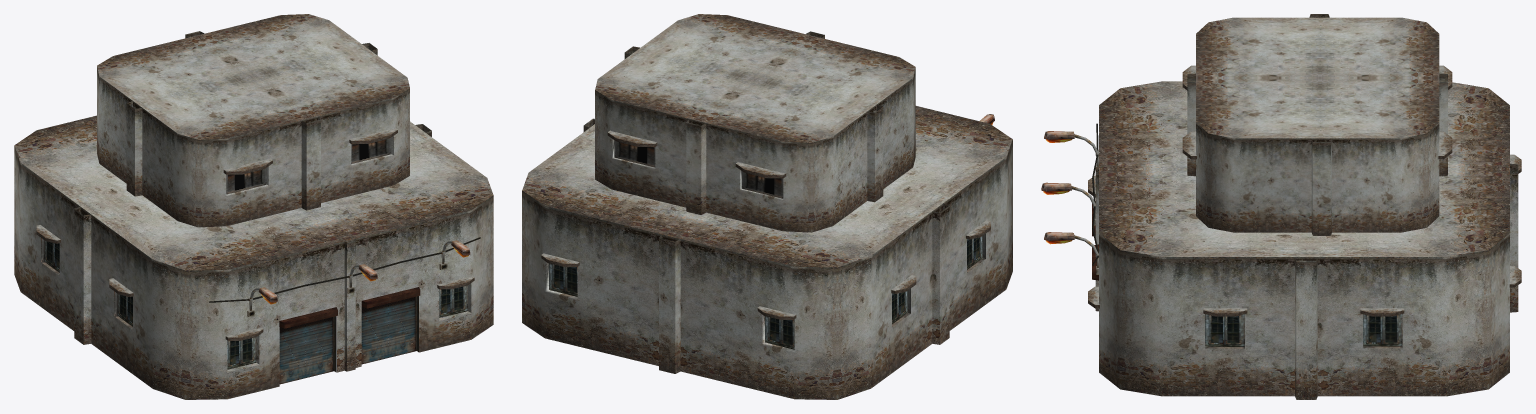
File: BuildingL.fbx
The picture shows the model from 3 angles, left to right: view 1: azimuth 30°, elevation 25°; view 2: azimuth 150°, elevation 25°; view 3: azimuth 270°, elevation 25°; orthographic projection. The views are drawn at different scales.
Parts seen in each view (by area): view 1: BuildingL; view 2: BuildingL; view 3: BuildingL.
Boxes of the visible parts, bbox=[...] form: BuildingL: bbox=[14, 14, 493, 399]; BuildingL: bbox=[522, 14, 1012, 399]; BuildingL: bbox=[1041, 14, 1521, 399].
Size of the model in its own units: 1646 by 966 by 1800.
